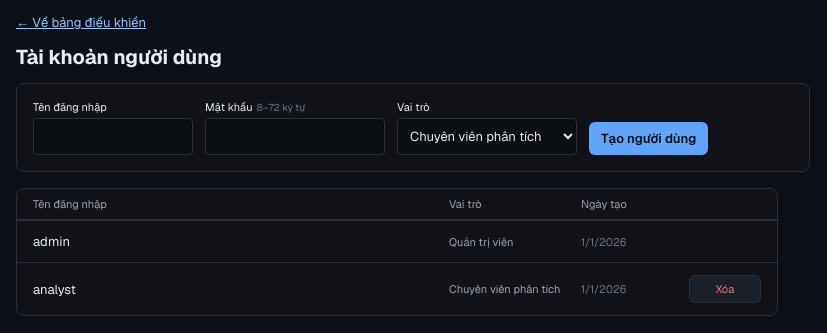
AdminUsersPage › removes the row after a successful delete
Expected: the text "analyst" is shown, [33,281,76,298]
Click the button "Xóa".
click(725, 289)  # box [689,275,761,303]
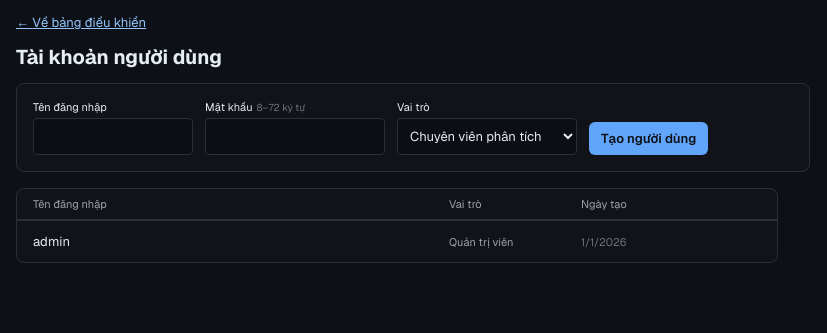
Expected: the text "analyst" is gone
